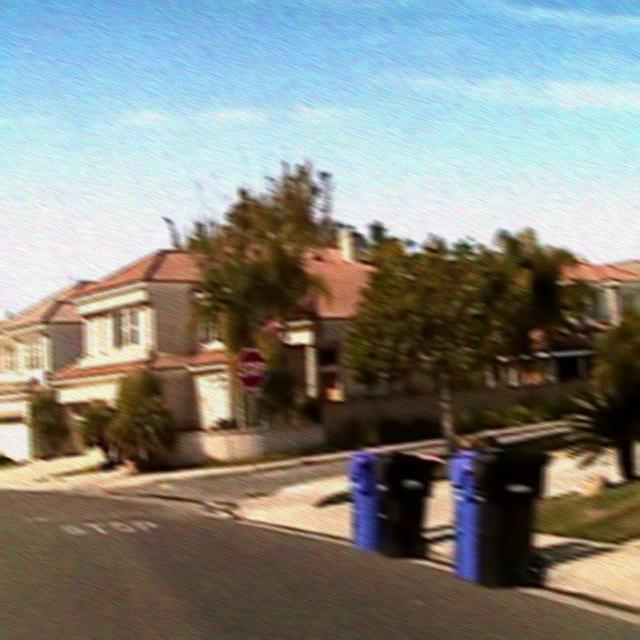stop_sign: (234, 346, 268, 391)
